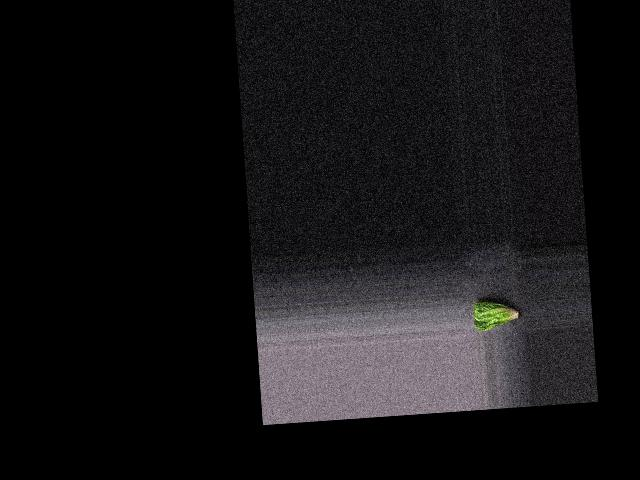lettuce: (472, 297, 523, 332)
